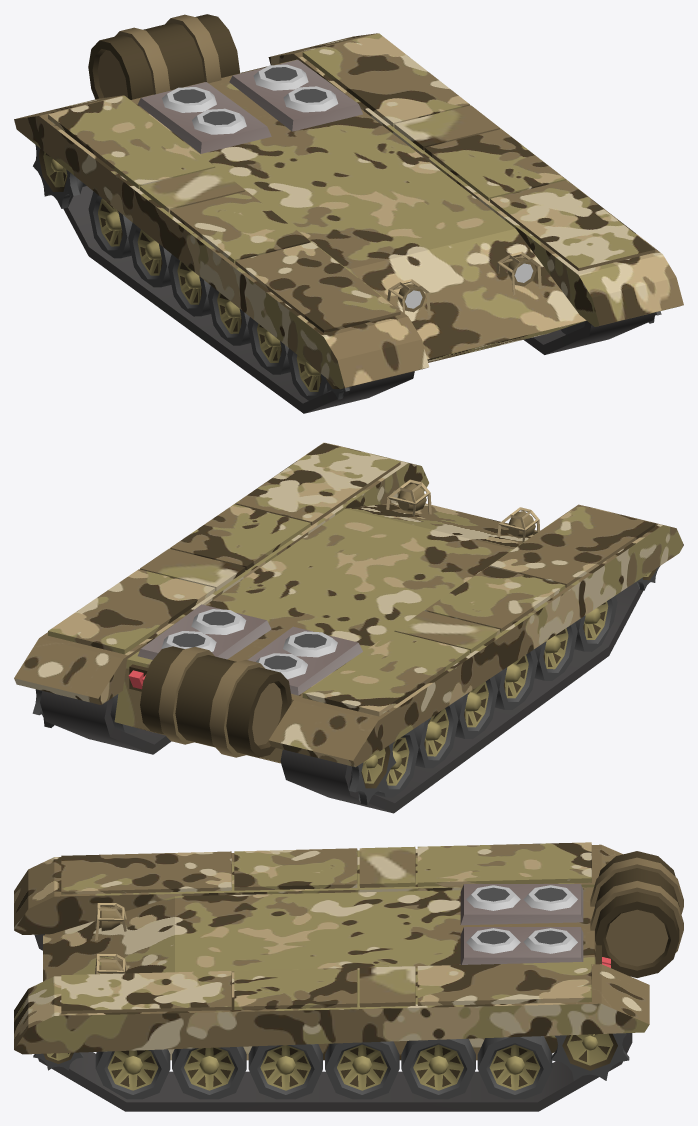
File: tank.glb
3 renders of one model, top to bottom at view 1: azimuth 30°, elevation 25°; view 2: azimuth 150°, elevation 25°; view 3: azimuth 270°, elevation 25°, orthographic. The views are drawn at different scales.
Parts seen in each view (by area): view 1: tank_001; view 2: tank_001; view 3: tank_001.
Boxes of the visible parts, bbox=[...] form: tank_001: bbox=[14, 14, 683, 413]; tank_001: bbox=[14, 442, 683, 813]; tank_001: bbox=[14, 842, 683, 1111].
Bounding box in the file's own units: 4.96 × 2.27 × 8.84.
2 materials, 2 textured.
